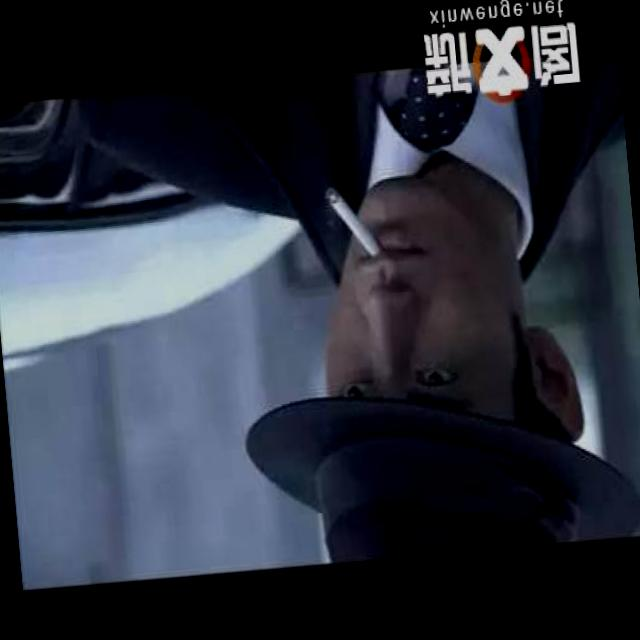cigarette: (323, 181, 382, 260)
